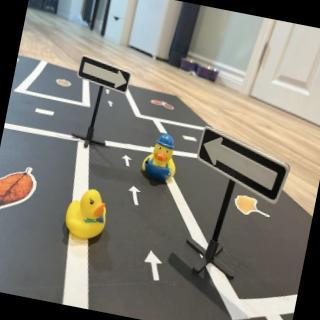duck_regular: (61, 184, 113, 246)
duck_specialty: (138, 129, 184, 187)
road_oneway: (141, 244, 172, 287), (126, 182, 145, 209), (120, 151, 133, 170), (106, 100, 116, 111), (105, 88, 113, 97)
sign_oneway_left: (191, 124, 298, 209)
sign_oneway_right: (76, 56, 134, 95)
